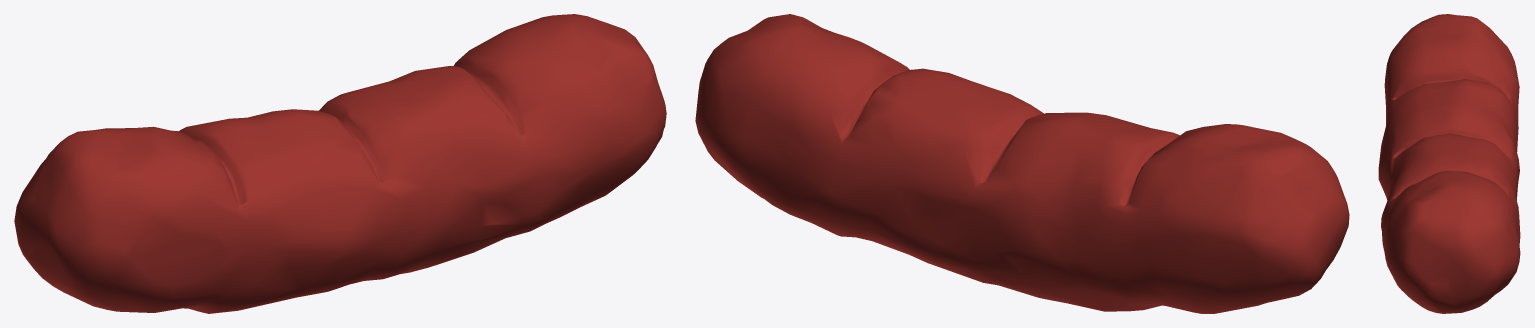
File: Food (1).fbx
3 views of the same model, side by side, from view 1: azimuth 30°, elevation 25°; view 2: azimuth 150°, elevation 25°; view 3: azimuth 270°, elevation 25° (orthographic). The views are drawn at different scales.
Parts seen in each view (by area): view 1: Cube.010; view 2: Cube.010; view 3: Cube.010.
Part boxes in pixels (x1,y1,x2,y2): Cube.010: (14,14,666,313); Cube.010: (695,14,1349,313); Cube.010: (1378,14,1520,313).
Bounding box in the file's own units: 15.54 × 4.73 × 4.27.
